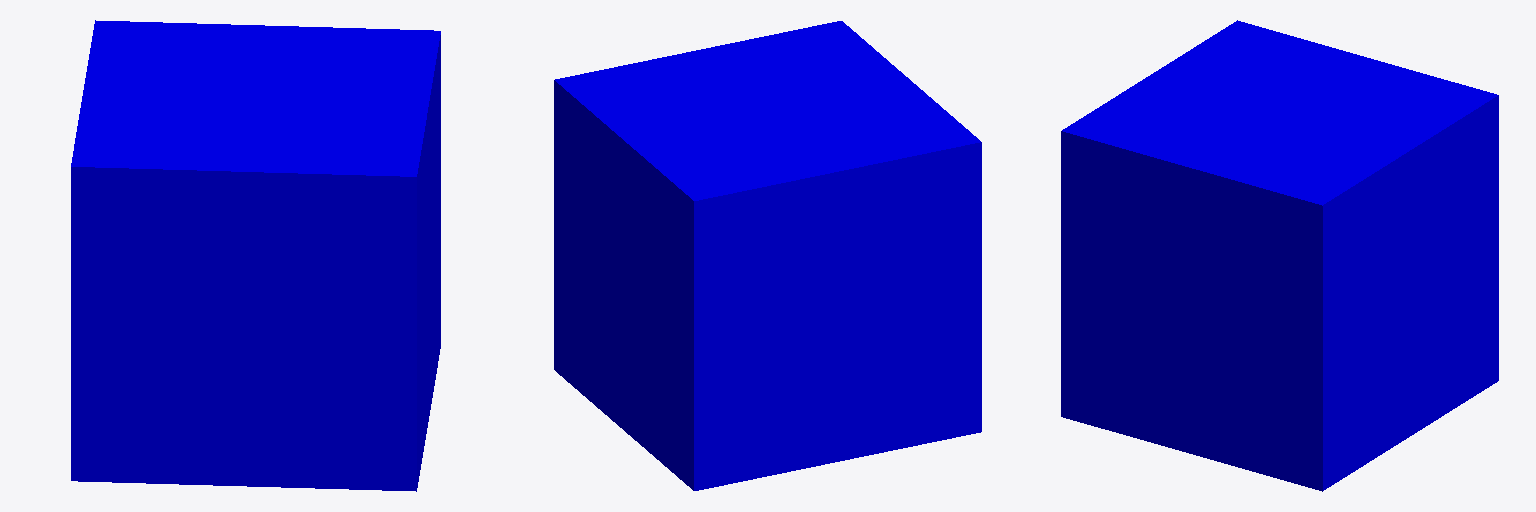
URDF robot description (dex3_1_r):
<robot name="dex3_1_r">
  <mujoco>
    <compiler meshdir="meshes" discardvisual="false"/>
  </mujoco>

  <!-- [CAUTION] uncomment when convert to mujoco -->
  <!-- <link name="world"></link>
  <joint name="floating_base_joint" type="floating">
    <parent link="world"/>
    <child link="right_hand_palm_link"/>
  </joint> -->

  <link name="right_hand_palm_link">
    <inertial>
      <origin xyz="0.06214634836 0.00050869656 -0.00058171093" rpy="0 0 0"/>
      <mass value="0.37283854"/>
      <inertia ixx="0.00027535181027" ixy="0.00001595519465" ixz="-0.00000242161890" iyy="0.00053951827219" iyz="0.00000042279435" izz="0.00039623390907"/>
    </inertial>
    <visual>
      <origin xyz="0 0 0" rpy="0 0 0"/>
      <geometry>
        <mesh filename="[local-path]/ws_isaacsim/unitree/src/unitree_g1_description/meshes/right_hand_palm_link.STL"/>
      </geometry>
      <material name="white">
        <color rgba="0.7 0.7 0.7 1"/>
      </material>
    </visual>
    <collision>
      <origin xyz="0 0 0" rpy="0 0 0"/>
      <geometry>
        <mesh filename="[local-path]/ws_isaacsim/unitree/src/unitree_g1_description/meshes/right_hand_palm_link.STL"/>
      </geometry>
    </collision>
  </link>
  <joint name="right_hand_thumb_0_joint" type="revolute">
    <origin xyz="0.0255 0 0" rpy="0 0 0"/>
    <axis xyz="0 1 0"/>
    <parent link="right_hand_palm_link"/>
    <child link="right_hand_thumb_0_link"/>
    <limit effort="2.45" velocity="3.14" lower="-1.04719755" upper="1.04719755"/>
  </joint>
  <link name="right_hand_thumb_0_link">
    <inertial>
      <origin xyz="-0.00088424580 0.00863407079 0.00094429336" rpy="0 0 0"/>
      <mass value="0.08623657"/>
      <inertia ixx="0.00001602919238" ixy="-0.00000010683177" ixz="0.00000016728875" iyy="0.00001451795012" iyz="0.00000051094752" izz="0.00001637877663"/>
    </inertial>
    <visual>
      <origin xyz="0 0 0" rpy="0 0 0"/>
      <geometry>
        <mesh filename="[local-path]/ws_isaacsim/unitree/src/unitree_g1_description/meshes/right_hand_thumb_0_link.STL"/>
      </geometry>
      <material name="white">
        <color rgba="0.7 0.7 0.7 1"/>
      </material>
    </visual>
    <collision>
      <origin xyz="0 0 0" rpy="0 0 0"/>
      <geometry>
        <mesh filename="[local-path]/ws_isaacsim/unitree/src/unitree_g1_description/meshes/right_hand_thumb_0_link.STL"/>
      </geometry>
    </collision>
  </link>
  <joint name="right_hand_thumb_1_joint" type="revolute">
    <origin xyz="-0.0025 0.0193 0" rpy="0 0 0"/>
    <axis xyz="0 0 1"/>
    <parent link="right_hand_thumb_0_link"/>
    <child link="right_hand_thumb_1_link"/>
    <limit effort="1.4" velocity="12" lower="-1.04719755" upper="0.72431163"/>
  </joint>
  <link name="right_hand_thumb_1_link">
    <inertial>
      <origin xyz="-0.00082788768 0.03547435774 -0.00038089960" rpy="0 0 0"/>
      <mass value="0.05885070"/>
      <inertia ixx="0.00001274699945" ixy="0.00000050770784" ixz="0.00000016088850" iyy="0.00000601573947" iyz="0.00000027839003" izz="0.00001234543582"/>
    </inertial>
    <visual>
      <origin xyz="0 0 0" rpy="0 0 0"/>
      <geometry>
        <mesh filename="[local-path]/ws_isaacsim/unitree/src/unitree_g1_description/meshes/right_hand_thumb_1_link.STL"/>
      </geometry>
      <material name="white">
        <color rgba="0.7 0.7 0.7 1"/>
      </material>
    </visual>
    <collision>
      <origin xyz="0.0 0.0 0.0" rpy="0 0 0"/>
      <geometry>
        <mesh filename="[local-path]/ws_isaacsim/unitree/src/unitree_g1_description/meshes/right_hand_thumb_1_link.STL"/>
      </geometry>
    </collision>
  </link>
  <joint name="right_hand_thumb_2_joint" type="revolute">
    <origin xyz="0 0.0458 0" rpy="0 0 0"/>
    <axis xyz="0 0 1"/>
    <parent link="right_hand_thumb_1_link"/>
    <child link="right_hand_thumb_2_link"/>
    <limit effort="1.4" velocity="12" lower="-1.74532925" upper="0"/>
  </joint>
  <link name="right_hand_thumb_2_link">
    <inertial>
      <origin xyz="-0.00171735242 0.02628192939 0.00010778879" rpy="0 0 0"/>
      <mass value="0.02030626"/>
      <inertia ixx="0.00000461267817" ixy="0.00000003422130" ixz="-0.00000000823881" iyy="0.00000153561368" iyz="0.00000002549885" izz="0.00000386625776"/>
    </inertial>
    <visual>
      <origin xyz="0 0 0" rpy="0 0 0"/>
      <geometry>
        <mesh filename="[local-path]/ws_isaacsim/unitree/src/unitree_g1_description/meshes/right_hand_thumb_2_link.STL"/>
      </geometry>
      <material name="white">
        <color rgba="0.7 0.7 0.7 1"/>
      </material>
    </visual>
    <collision>
      <origin xyz="0 0 0" rpy="0 0 0"/>
      <geometry>
        <mesh filename="[local-path]/ws_isaacsim/unitree/src/unitree_g1_description/meshes/right_hand_thumb_2_link.STL"/>
      </geometry>
    </collision>
  </link>
  <joint name="right_hand_middle_0_joint" type="revolute">
    <origin xyz="0.0777 -0.0016 -0.0285" rpy="0 0 0"/>
    <axis xyz="0 0 1"/>
    <parent link="right_hand_palm_link"/>
    <child link="right_hand_middle_0_link"/>
    <limit effort="1.4" velocity="12" lower="0" upper="1.57079632"/>
  </joint>
  <link name="right_hand_middle_0_link">
    <inertial>
      <origin xyz="0.03547435774 -0.00082788768 0.00038089960" rpy="0 0 0"/>
      <mass value="0.05885070"/>
      <inertia ixx="0.00000601573947" ixy="0.00000050770784" ixz="-0.00000027839003" iyy="0.00001274699945" iyz="-0.00000016088850" izz="0.00001234543582"/>
    </inertial>
    <visual>
      <origin xyz="0 0 0" rpy="0 0 0"/>
      <geometry>
        <mesh filename="[local-path]/ws_isaacsim/unitree/src/unitree_g1_description/meshes/right_hand_middle_0_link.STL"/>
      </geometry>
      <material name="white">
        <color rgba="0.7 0.7 0.7 1"/>
      </material>
    </visual>
    <collision>
      <origin xyz="0 0 0" rpy="0 0 0"/>
      <geometry>
        <mesh filename="[local-path]/ws_isaacsim/unitree/src/unitree_g1_description/meshes/right_hand_middle_0_link.STL"/>
      </geometry>
    </collision>
  </link>
  <joint name="right_hand_middle_1_joint" type="revolute">
    <origin xyz="0.0458 0 0" rpy="0 0 0"/>
    <axis xyz="0 0 1"/>
    <parent link="right_hand_middle_0_link"/>
    <child link="right_hand_middle_1_link"/>
    <limit effort="1.4" velocity="12" lower="0" upper="1.74532925"/>
  </joint>
  <link name="right_hand_middle_1_link">
    <inertial>
      <origin xyz="0.02628192939 -0.00171735242 -0.00010778879" rpy="0 0 0"/>
      <mass value="0.02030626"/>
      <inertia ixx="0.00000153561368" ixy="0.00000003422130" ixz="-0.00000002549885" iyy="0.00000461267817" iyz="0.00000000823881" izz="0.00000386625776"/>
    </inertial>
    <visual>
      <origin xyz="0 0 0" rpy="0 0 0"/>
      <geometry>
        <mesh filename="[local-path]/ws_isaacsim/unitree/src/unitree_g1_description/meshes/right_hand_middle_1_link.STL"/>
      </geometry>
      <material name="white">
        <color rgba="0.7 0.7 0.7 1"/>
      </material>
    </visual>
    <collision>
      <origin xyz="0 0 0" rpy="0 0 0"/>
      <geometry>
        <mesh filename="[local-path]/ws_isaacsim/unitree/src/unitree_g1_description/meshes/right_hand_middle_1_link.STL"/>
      </geometry>
    </collision>
  </link>
  <joint name="right_hand_index_0_joint" type="revolute">
    <origin xyz="0.0777 -0.0016 0.0285" rpy="0 0 0"/>
    <axis xyz="0 0 1"/>
    <parent link="right_hand_palm_link"/>
    <child link="right_hand_index_0_link"/>
    <limit effort="1.4" velocity="12" lower="0" upper="1.57079632"/>
  </joint>
  <link name="right_hand_index_0_link">
    <inertial>
      <origin xyz="0.03547435774 -0.00082788768 0.00038089960" rpy="0 0 0"/>
      <mass value="0.05885070"/>
      <inertia ixx="0.00000601573947" ixy="0.00000050770784" ixz="-0.00000027839003" iyy="0.00001274699945" iyz="-0.00000016088850" izz="0.00001234543582"/>
    </inertial>
    <visual>
      <origin xyz="0 0 0" rpy="0 0 0"/>
      <geometry>
        <mesh filename="[local-path]/ws_isaacsim/unitree/src/unitree_g1_description/meshes/right_hand_index_0_link.STL"/>
      </geometry>
      <material name="white">
        <color rgba="0.7 0.7 0.7 1"/>
      </material>
    </visual>
    <collision>
      <origin xyz="0 0 0" rpy="0 0 0"/>
      <geometry>
        <mesh filename="[local-path]/ws_isaacsim/unitree/src/unitree_g1_description/meshes/right_hand_index_0_link.STL"/>
      </geometry>
    </collision>
  </link>
  <joint name="right_hand_index_1_joint" type="revolute">
    <origin xyz="0.0458 0 0" rpy="0 0 0"/>
    <axis xyz="0 0 1"/>
    <parent link="right_hand_index_0_link"/>
    <child link="right_hand_index_1_link"/>
    <limit effort="1.4" velocity="12" lower="0" upper="1.74532925"/>
  </joint>
  <link name="right_hand_index_1_link">
    <inertial>
      <origin xyz="0.02628192939 -0.00171735242 -0.00010778879" rpy="0 0 0"/>
      <mass value="0.02030626"/>
      <inertia ixx="0.00000153561368" ixy="0.00000003422130" ixz="-0.00000002549885" iyy="0.00000461267817" iyz="0.00000000823881" izz="0.00000386625776"/>
    </inertial>
    <visual>
      <origin xyz="0 0 0" rpy="0 0 0"/>
      <geometry>
        <mesh filename="[local-path]/ws_isaacsim/unitree/src/unitree_g1_description/meshes/right_hand_index_1_link.STL"/>
      </geometry>
      <material name="white">
        <color rgba="0.7 0.7 0.7 1"/>
      </material>
    </visual>
    <collision>
      <origin xyz="0 0 0" rpy="0 0 0"/>
      <geometry>
        <mesh filename="[local-path]/ws_isaacsim/unitree/src/unitree_g1_description/meshes/right_hand_index_1_link.STL"/>
      </geometry>
    </collision>
  </link>
  <link name="cube">
    <visual>
      <origin xyz="0 0 0" rpy="0 0 0"/> <!-- 0.04 m acima do centro da palma -->
      <geometry>
        <box size="0.08 0.08 0.08"/>
      </geometry>
      <material name="blue">
        <color rgba="0 0 1 1"/>
      </material>
    </visual>
    <collision>
      <origin xyz="0 0 0" rpy="0 0 0"/>
      <geometry>
        <box size="0.08 0.08 0.08"/>
      </geometry>
    </collision>
    <inertial>
      <origin xyz="0 0 0" rpy="0 0 0"/>
      <mass value="0.1"/>
      <inertia ixx="0.000085" ixy="0" ixz="0" iyy="0.000085" iyz="0" izz="0.000085"/>
    </inertial>
  </link>
  <joint name="cube_fixed" type="fixed">
    <parent link="right_hand_palm_link"/>
    <child link="cube"/>
    <origin xyz="0.10 0.069 0" rpy="0 0 0.97738438111"/>
  </joint>
</robot>

--- Facts derived from the render (not from the file) ---
Views: 3 orthographic renders of the robot side by side, from view 1: azimuth 30°, elevation 25°; view 2: azimuth 150°, elevation 25°; view 3: azimuth 270°, elevation 25°.
Robot: dex3_1_r — 9 links, 8 joints (7 revolute, 1 fixed); root link right_hand_palm_link; default pose: all joints at 0.
Links seen in each view (by area): view 1: cube; view 2: cube; view 3: cube.
Boxes of the visible links, bbox=[...] form: cube: bbox=[71, 20, 440, 491]; cube: bbox=[554, 21, 981, 490]; cube: bbox=[1061, 20, 1498, 491].
Size in the robot's own frame: 0.1111 by 0.1111 by 0.08 metres.
Geometry: only primitive shapes (box / cylinder / sphere) drawn; not drawn: 8 mesh visuals (reference in a form the renderer does not follow).